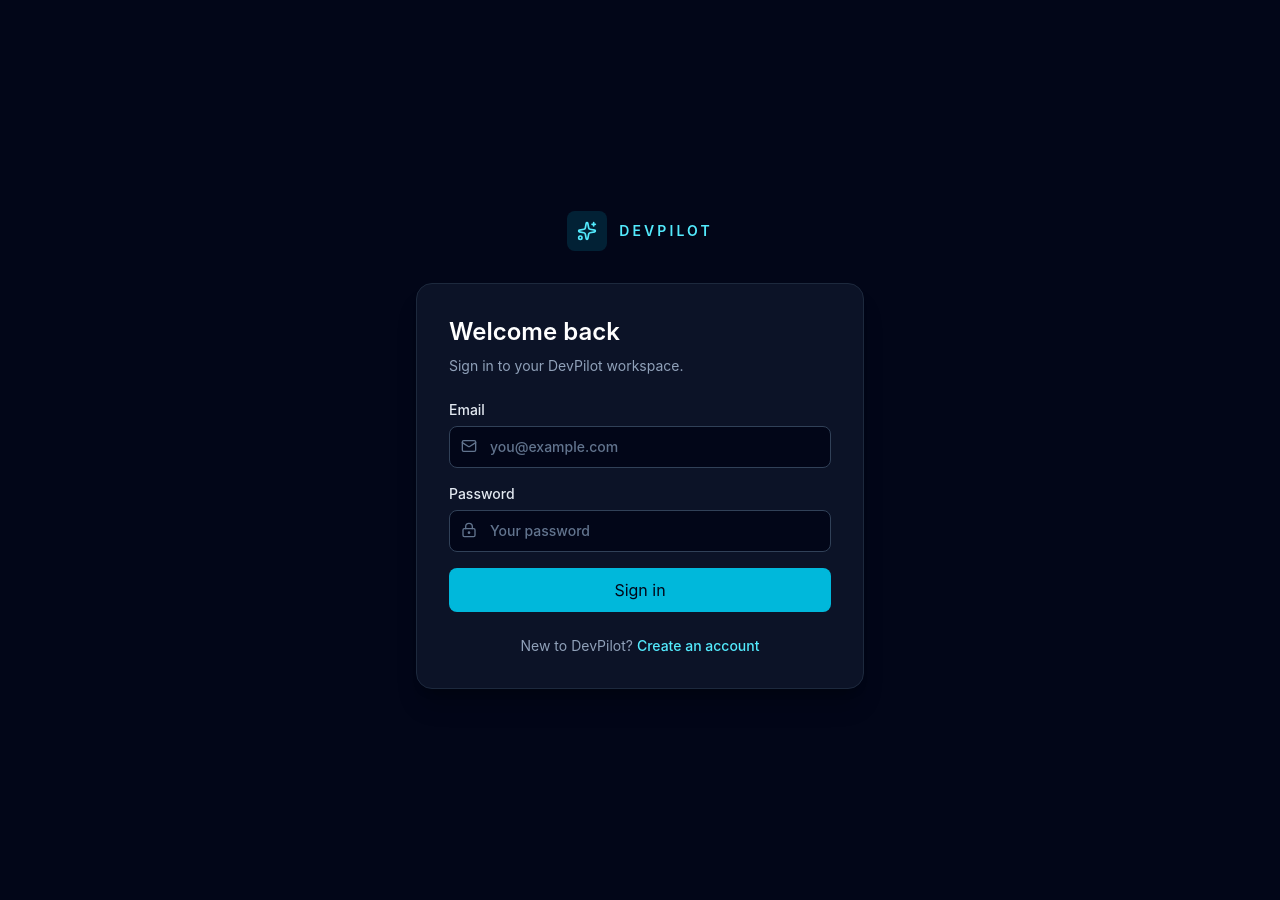
it: client application flows › protects dashboard routes, signs in, loads workspace data, and logs out
expect the heading "Welcome back" is shown: met, box [449,317,620,346]
In the field labelled "Email": x=640, y=447 [449,426,831,468], type "developer@example.com"
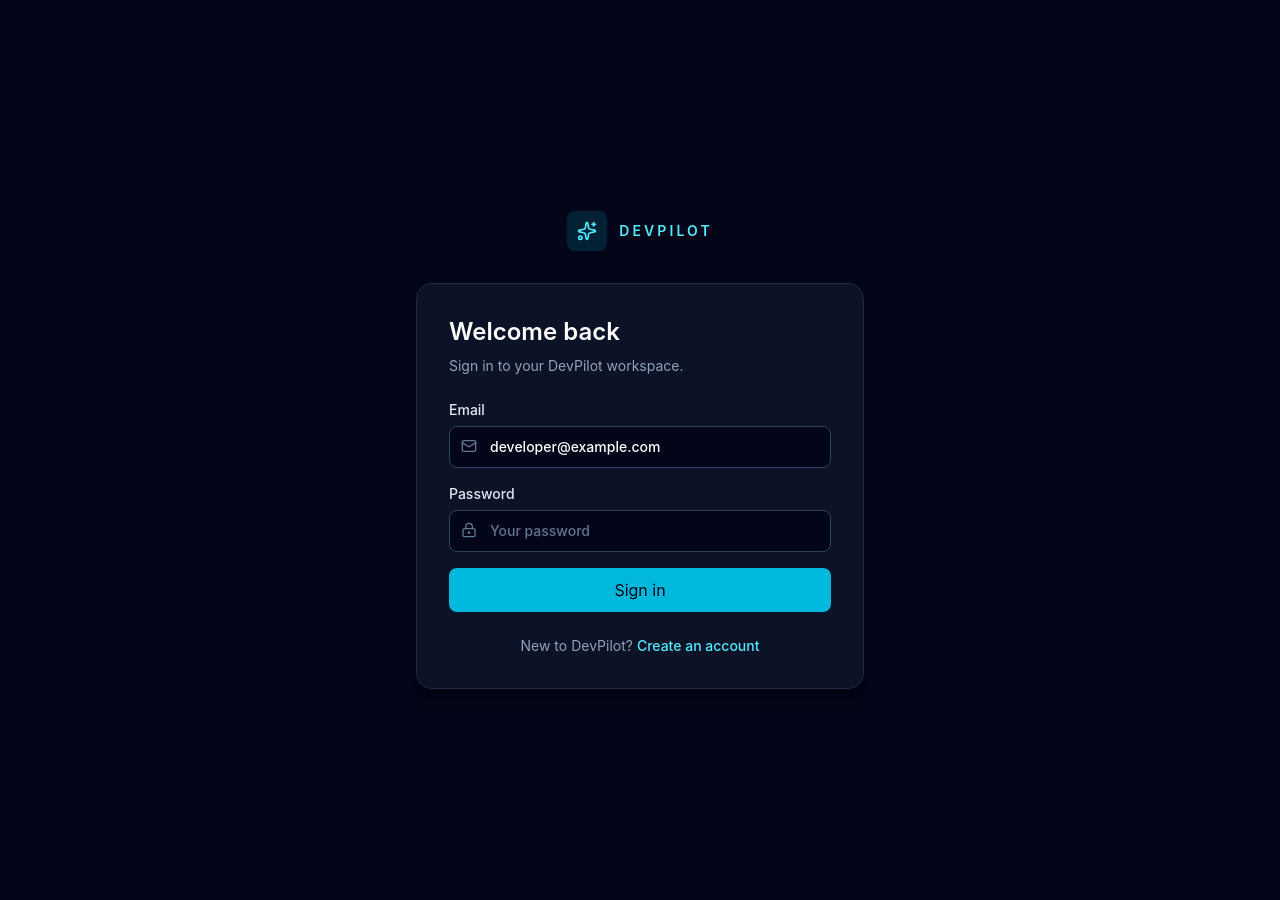
In the password field labelled "Password": x=640, y=531 [449,510,831,552], type "correct horse battery staple"
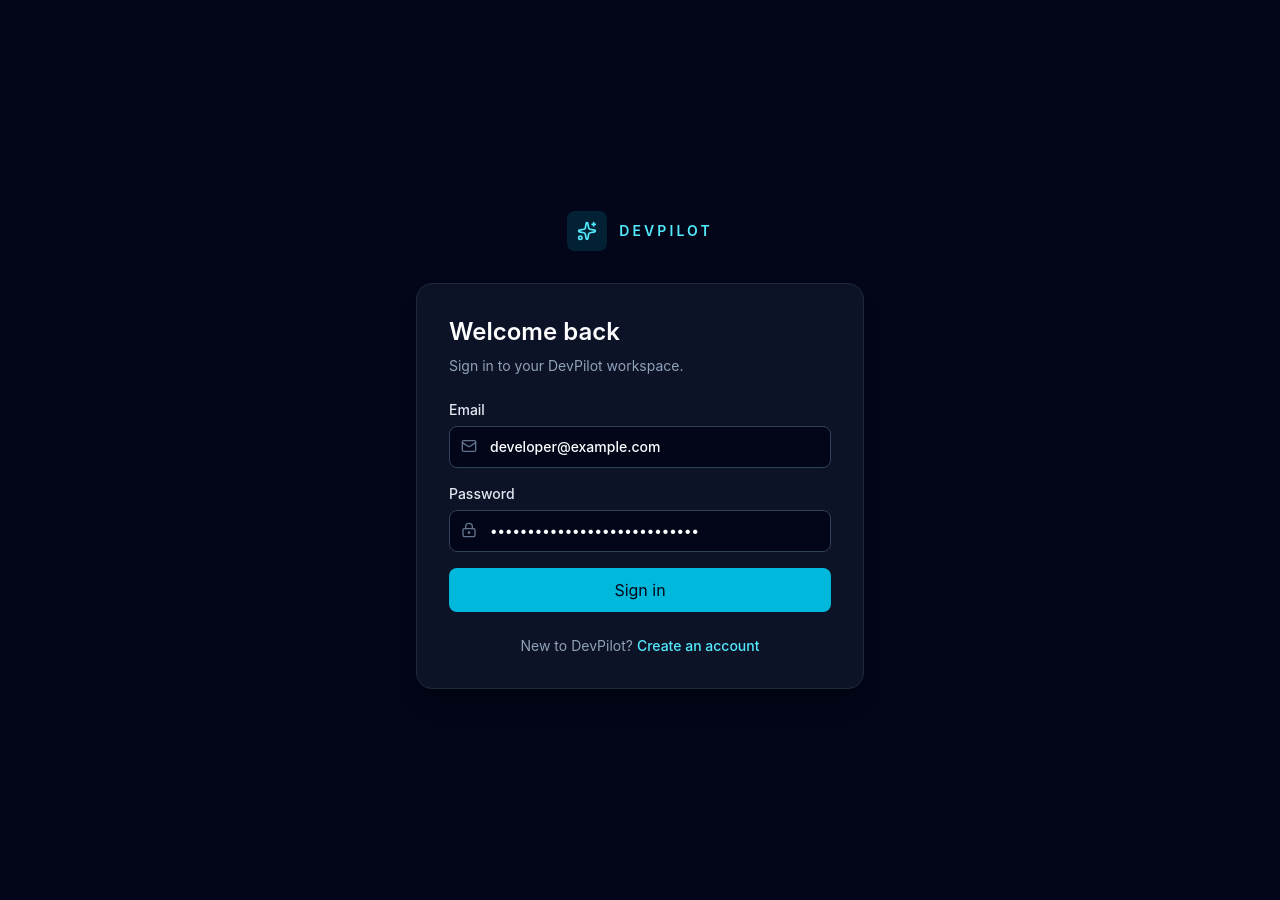
Click the button "Sign in": x=640, y=590 [449,568,831,612]
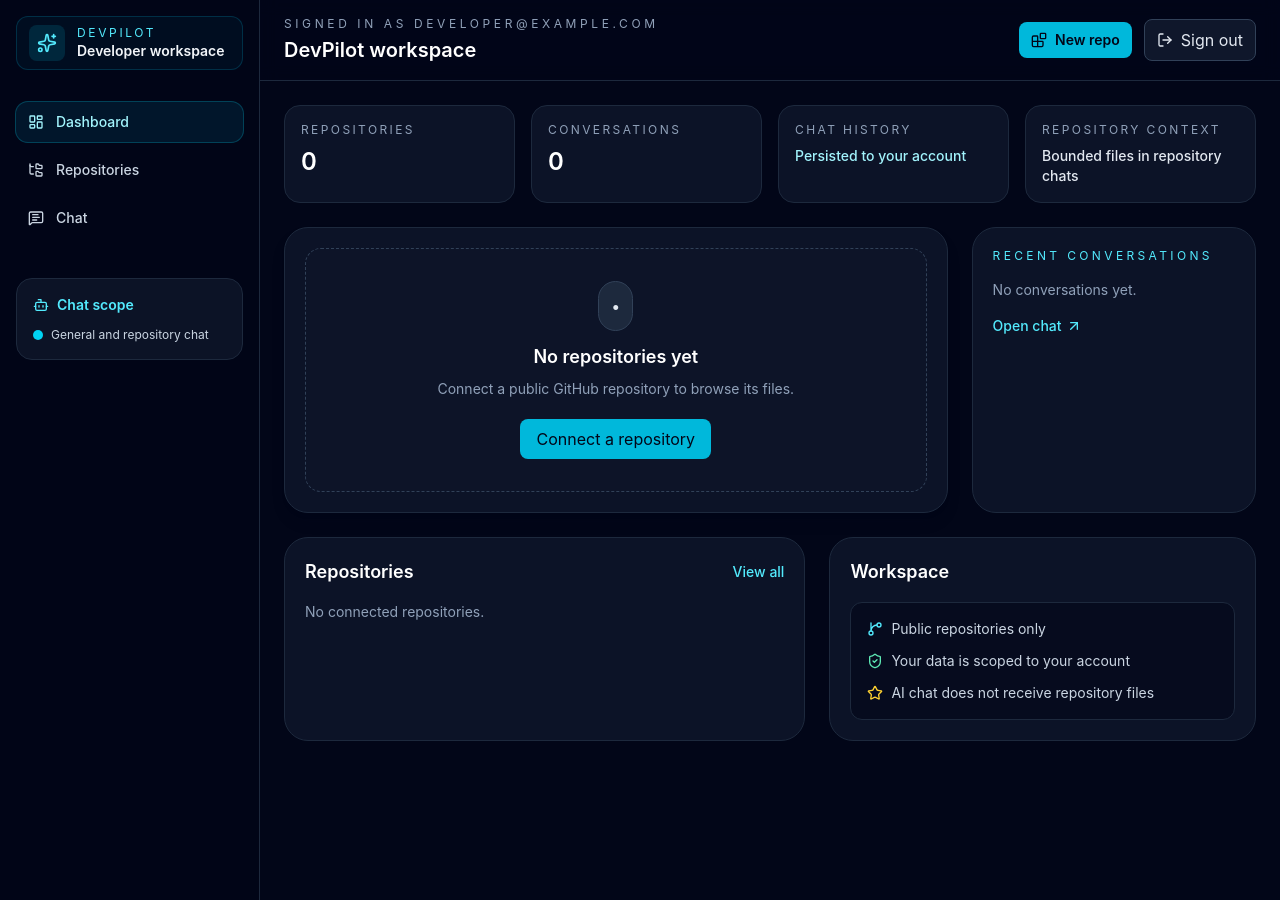
expect the heading "DevPilot workspace" is shown: met, box [284,38,476,62]
expect the heading "No repositories yet" is shown: met, box [533,343,698,371]
Click the button "Sign out": x=1200, y=40 [1144,19,1256,61]
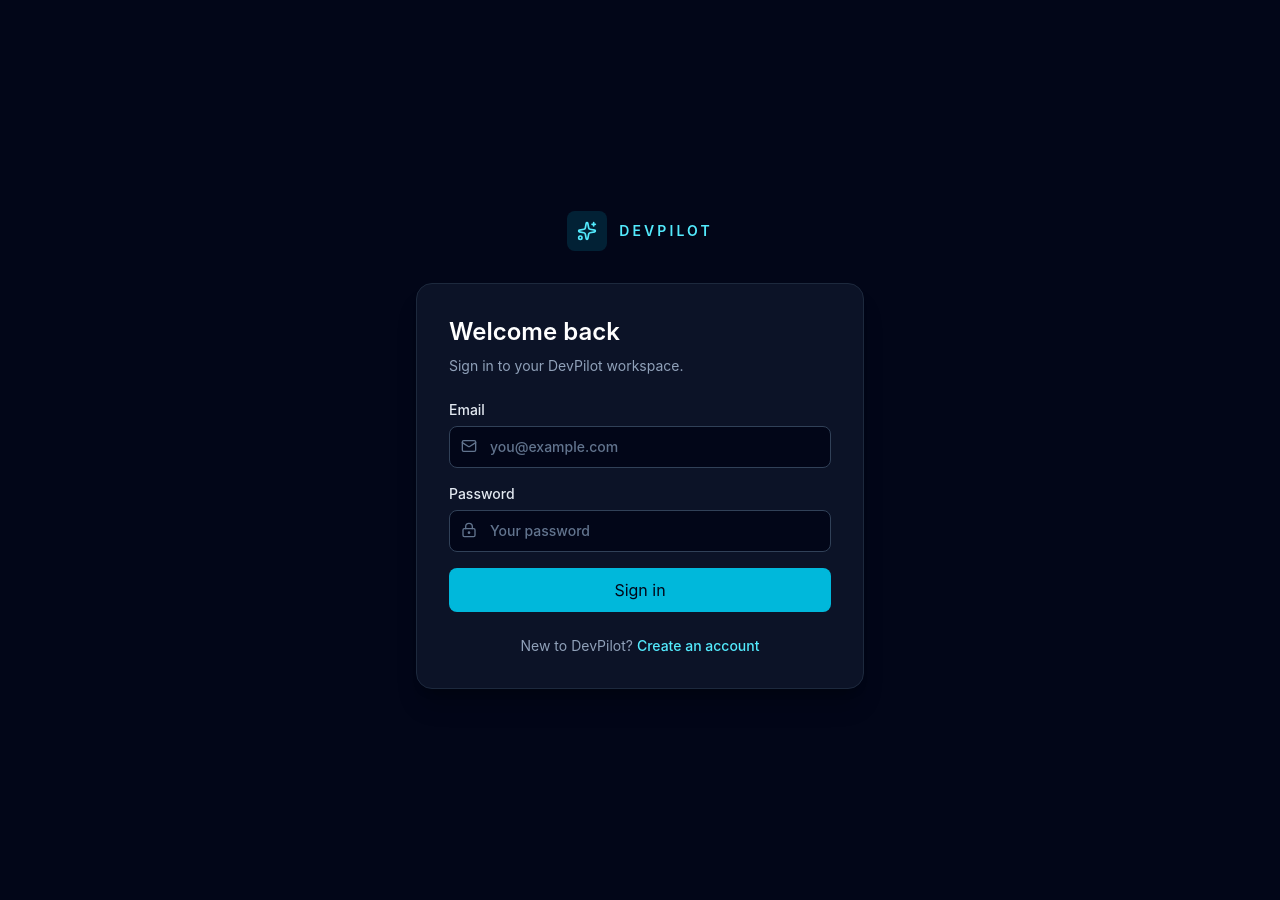
expect the heading "Welcome back" is shown: met, box [449,317,620,346]
